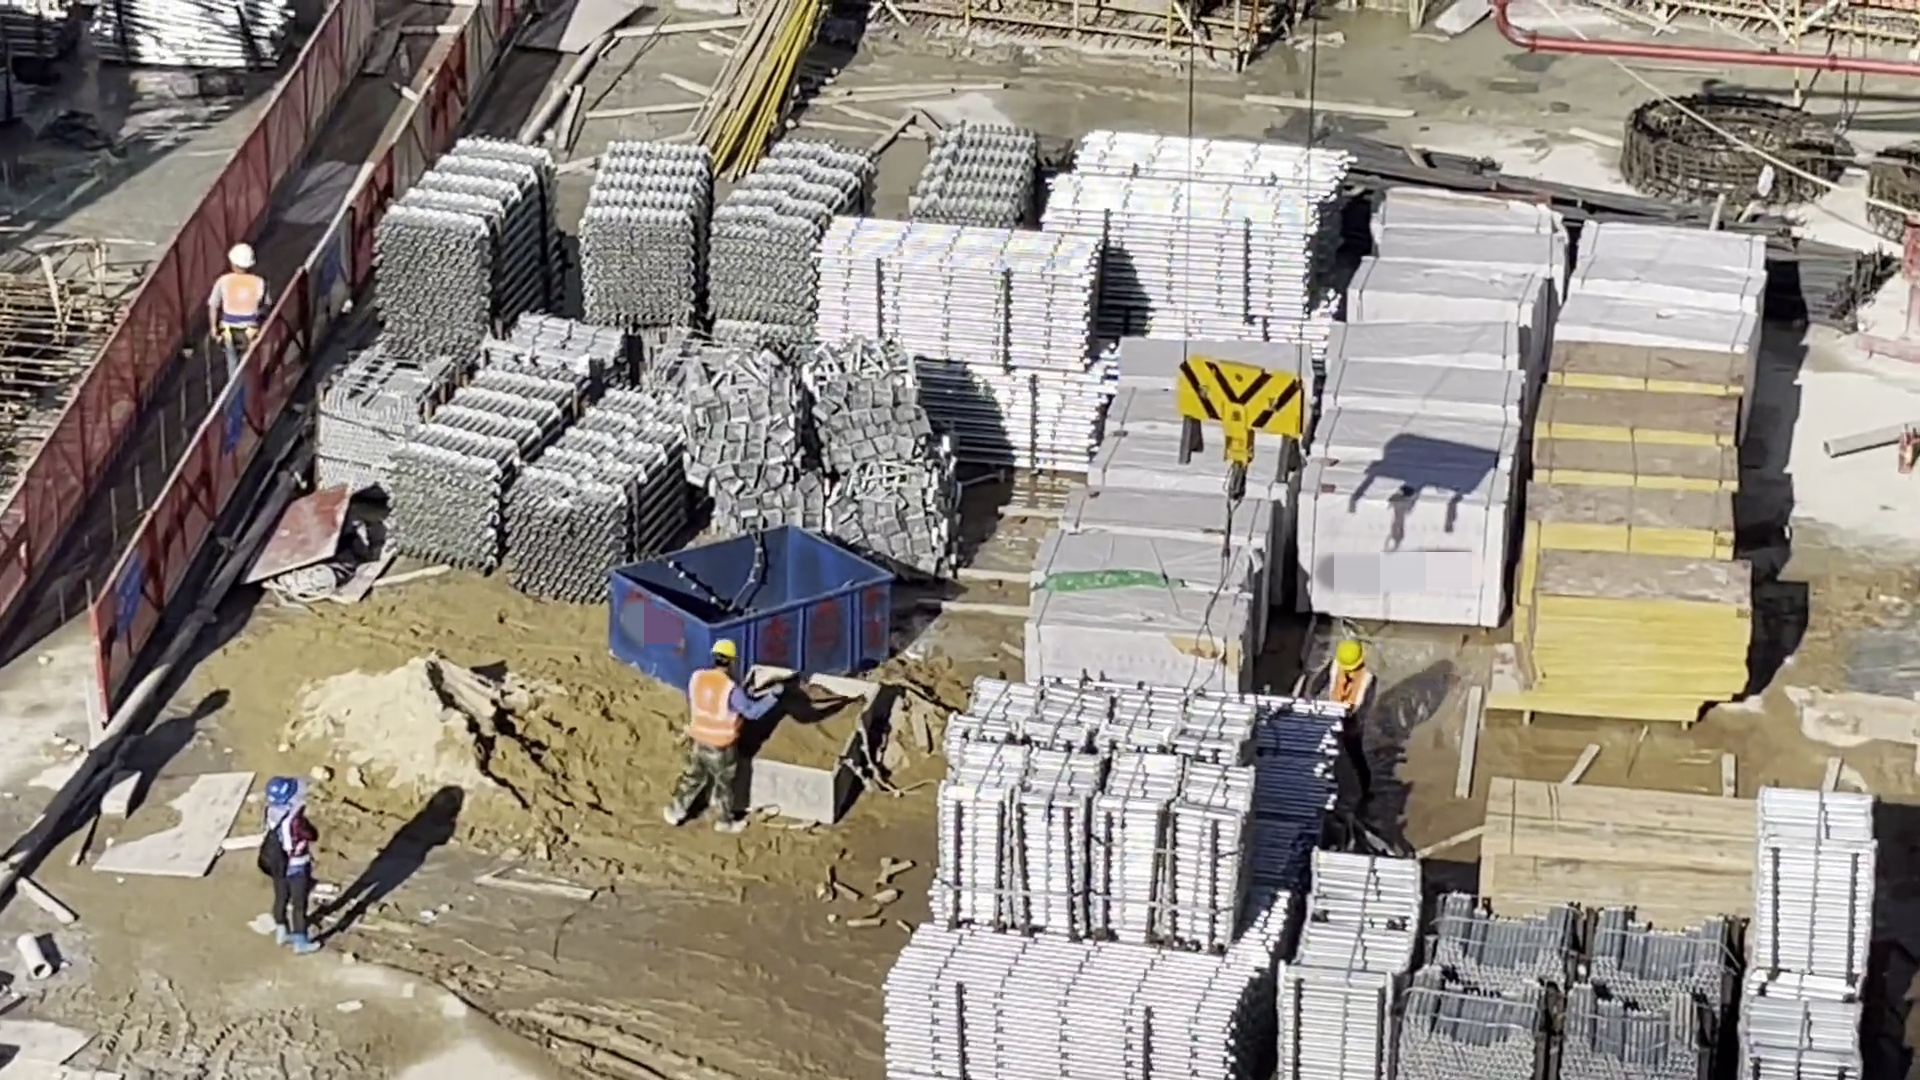fence: (1, 1, 496, 705)
helmet: (263, 768, 306, 812), (224, 231, 257, 276), (1320, 632, 1358, 670), (692, 637, 738, 660)
hook: (1149, 339, 1305, 501)
hopper: (644, 503, 887, 680), (706, 643, 843, 818)
person: (242, 772, 334, 968), (665, 638, 756, 823), (1308, 608, 1382, 757), (201, 238, 275, 362)
scaffold: (881, 684, 1414, 1074), (811, 109, 1101, 438), (1438, 881, 1725, 1080), (333, 111, 565, 337), (594, 115, 829, 312), (469, 323, 661, 564), (1725, 802, 1888, 1080), (1082, 116, 1298, 326)
vest: (688, 667, 732, 724), (215, 274, 265, 318), (1328, 669, 1373, 712)
